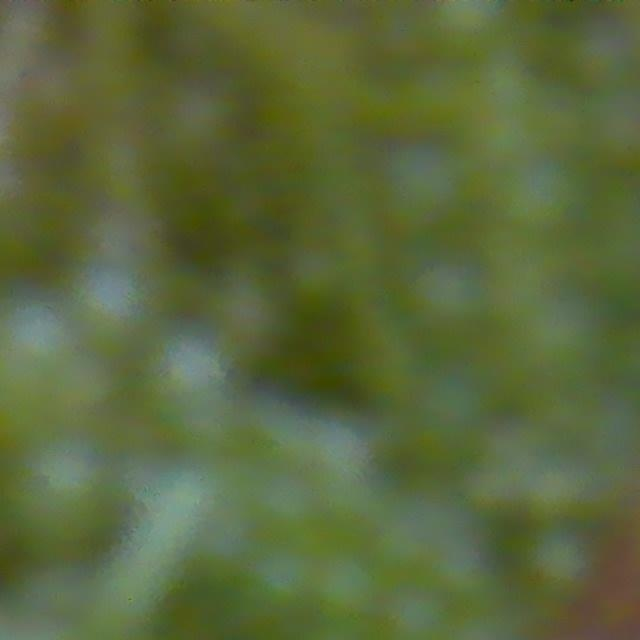SeaGrape: (134, 340, 254, 453), (5, 445, 115, 563), (206, 259, 296, 353), (380, 141, 471, 233), (0, 301, 78, 403), (61, 257, 148, 346), (240, 538, 322, 623), (520, 523, 603, 605), (406, 254, 491, 333), (308, 544, 389, 626), (382, 586, 450, 640)
